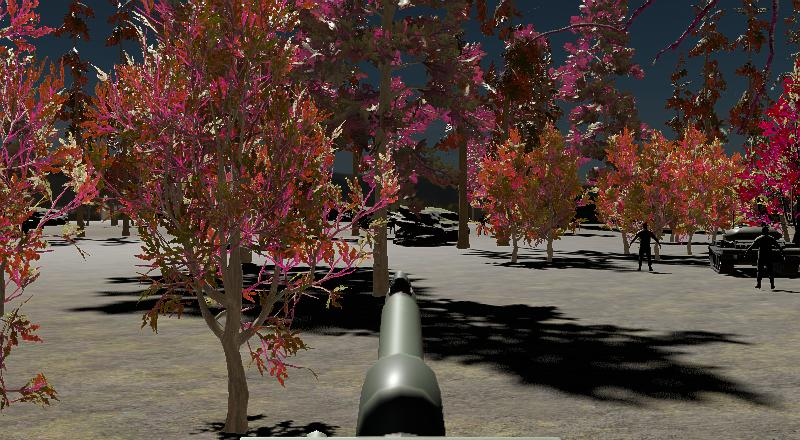Tank: (706, 222, 798, 279)
